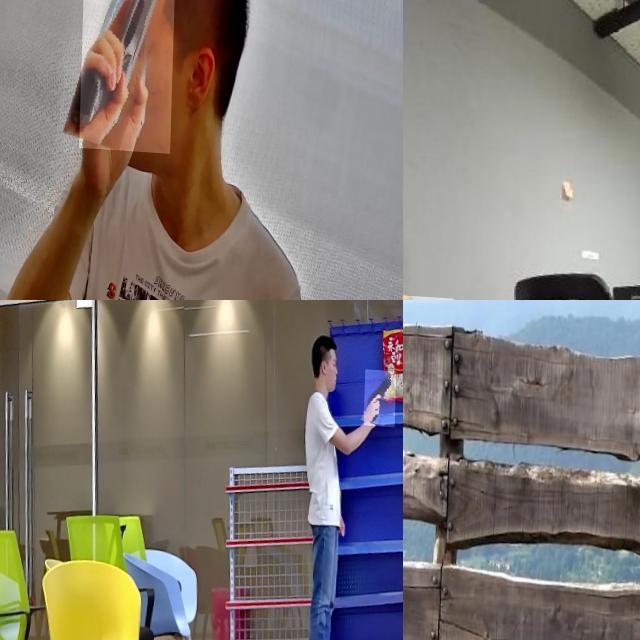gun-knife-thesis - v11 Yolov5 augmented: (80, 0, 178, 148), (365, 363, 397, 421)
